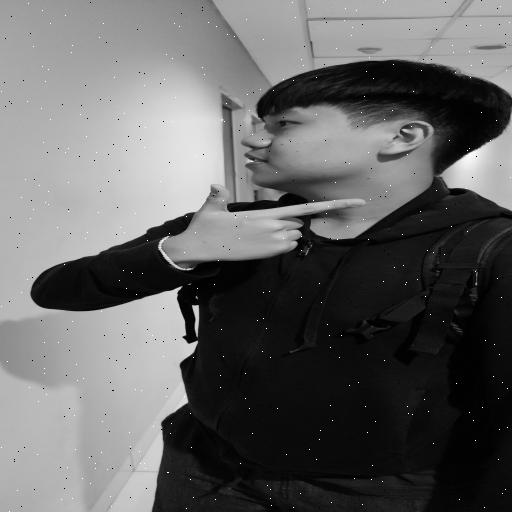next: (149, 176, 394, 277)
